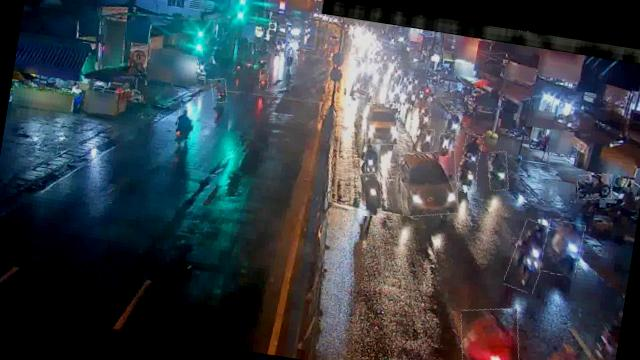Bike: (452, 302, 527, 360), (504, 218, 553, 294), (540, 218, 585, 278), (357, 171, 386, 217), (575, 171, 614, 203), (484, 149, 512, 192), (173, 105, 197, 145), (455, 158, 480, 192), (362, 142, 382, 174), (462, 132, 484, 160), (208, 78, 228, 104), (436, 133, 454, 157), (444, 110, 461, 134), (420, 129, 434, 150), (257, 69, 269, 91), (419, 107, 432, 124)
Car: (394, 145, 464, 221), (361, 100, 402, 148), (350, 68, 380, 102)
